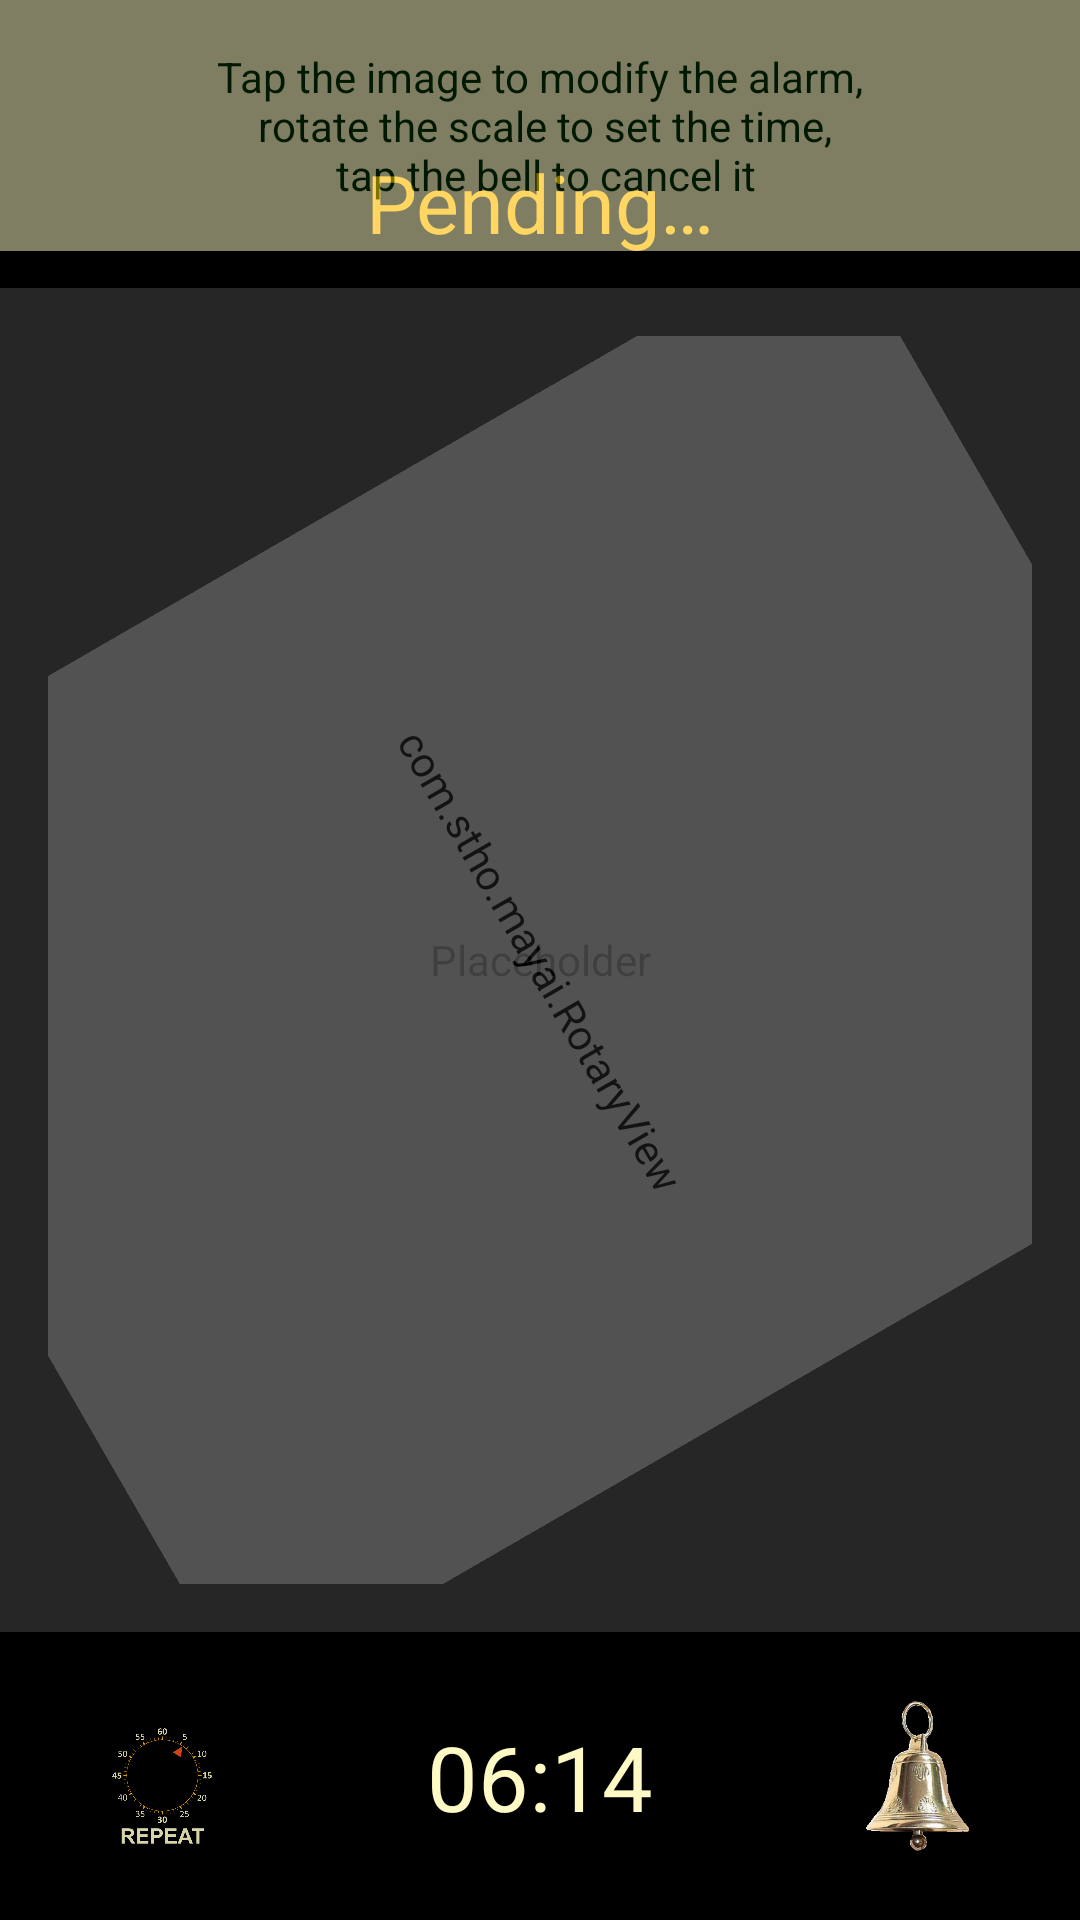

Icon click points for this 1080x1920 phone screenshot, format point (x, y):
Stop alarm: point (917, 1776)
